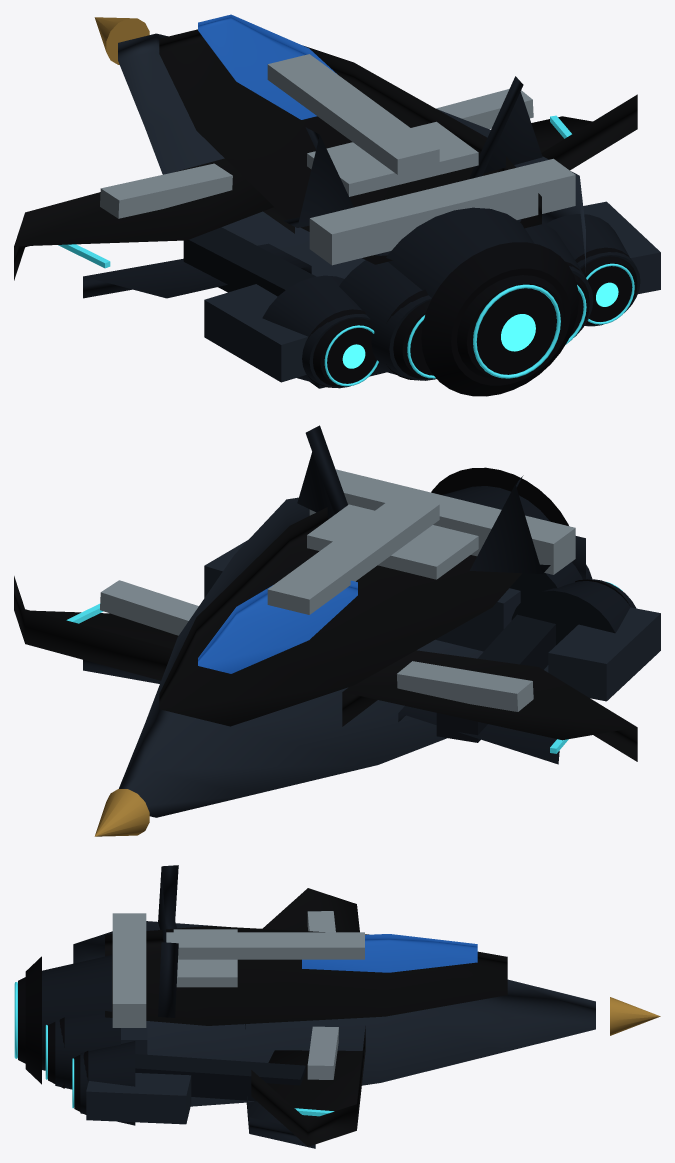
The model's file is holder-sovereign-wraith.glb.
3 views of the same model, one above another, from view 1: azimuth 30°, elevation 25°; view 2: azimuth 150°, elevation 25°; view 3: azimuth 270°, elevation 25° (orthographic). The views are drawn at different scales.
Parts seen in each view (by area): view 1: raised_black_command_deck, sovereign_engine_cowling (×5), sovereign_dark_nozzle (×4), rear_crown_bar, sovereign_heavy_core, central_dark_nozzle, left_sovereign_shoulder_wing, outer_engine_block (×2), gold_crown_spine, short_gold_wing_crest (×2), recessed_blue_canopy, rear_armor_pod (+8 smaller); view 2: raised_black_command_deck, sovereign_heavy_core, left_sovereign_shoulder_wing, gold_crown_spine, short_gold_wing_crest (×2), outer_engine_block (×2), right_sovereign_shoulder_wing, sovereign_engine_cowling (×3), recessed_blue_canopy, rear_crown_bar, central_gold_armor_plate, rear_armor_pod (+7 smaller); view 3: sovereign_heavy_core, raised_black_command_deck, sovereign_engine_cowling (×3), right_sovereign_shoulder_wing, gold_crown_spine, outer_engine_block, rear_armor_pod, recessed_blue_canopy, rear_crown_bar, left_sovereign_shoulder_wing, short_gold_wing_crest (×2), central_gold_armor_plate (+7 smaller).
Boxes of the visible parts, x1,y1,x2,y2 form: raised_black_command_deck: (159,29,541,264); sovereign_engine_cowling (×5): (262,207,640,388); sovereign_dark_nozzle (×4): (307,247,637,387); rear_crown_bar: (309,158,575,265); sovereign_heavy_core: (118,33,585,364); central_dark_nozzle: (421,242,578,396); left_sovereign_shoulder_wing: (14,158,294,280); outer_engine_block (×2): (204,201,660,382); gold_crown_spine: (267,54,439,174); short_gold_wing_crest (×2): (100,89,533,218); recessed_blue_canopy: (198,14,336,119); rear_armor_pod: (183,227,316,296); raised_black_command_deck: (159,507,521,726); sovereign_heavy_core: (119,497,585,817); left_sovereign_shoulder_wing: (342,650,637,761); gold_crown_spine: (267,494,439,614); short_gold_wing_crest (×2): (100,580,533,711); outer_engine_block (×2): (204,540,660,701); right_sovereign_shoulder_wing: (14,576,178,680); sovereign_engine_cowling (×3): (442,486,636,645); recessed_blue_canopy: (198,580,357,673); rear_crown_bar: (309,469,575,574); central_gold_armor_plate: (307,504,478,579); rear_armor_pod: (436,614,555,742); sovereign_heavy_core: (73,921,595,1106); raised_black_command_deck: (105,926,507,1025); sovereign_engine_cowling (×3): (42,955,135,1125); right_sovereign_shoulder_wing: (251,1026,365,1146); gold_crown_spine: (166,932,364,959); outer_engine_block: (86,1073,191,1124); rear_armor_pod: (135,1054,305,1101); recessed_blue_canopy: (302,934,477,972); rear_crown_bar: (112,913,146,1027); left_sovereign_shoulder_wing: (262,888,359,932); short_gold_wing_crest (×2): (307,911,338,1079); central_gold_armor_plate: (173,929,237,987).
Size of the model in its own units: 10.1 by 3.52 by 11.89.
